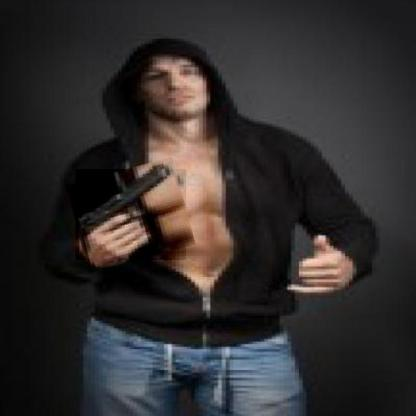handgun: (70, 163, 190, 267)
